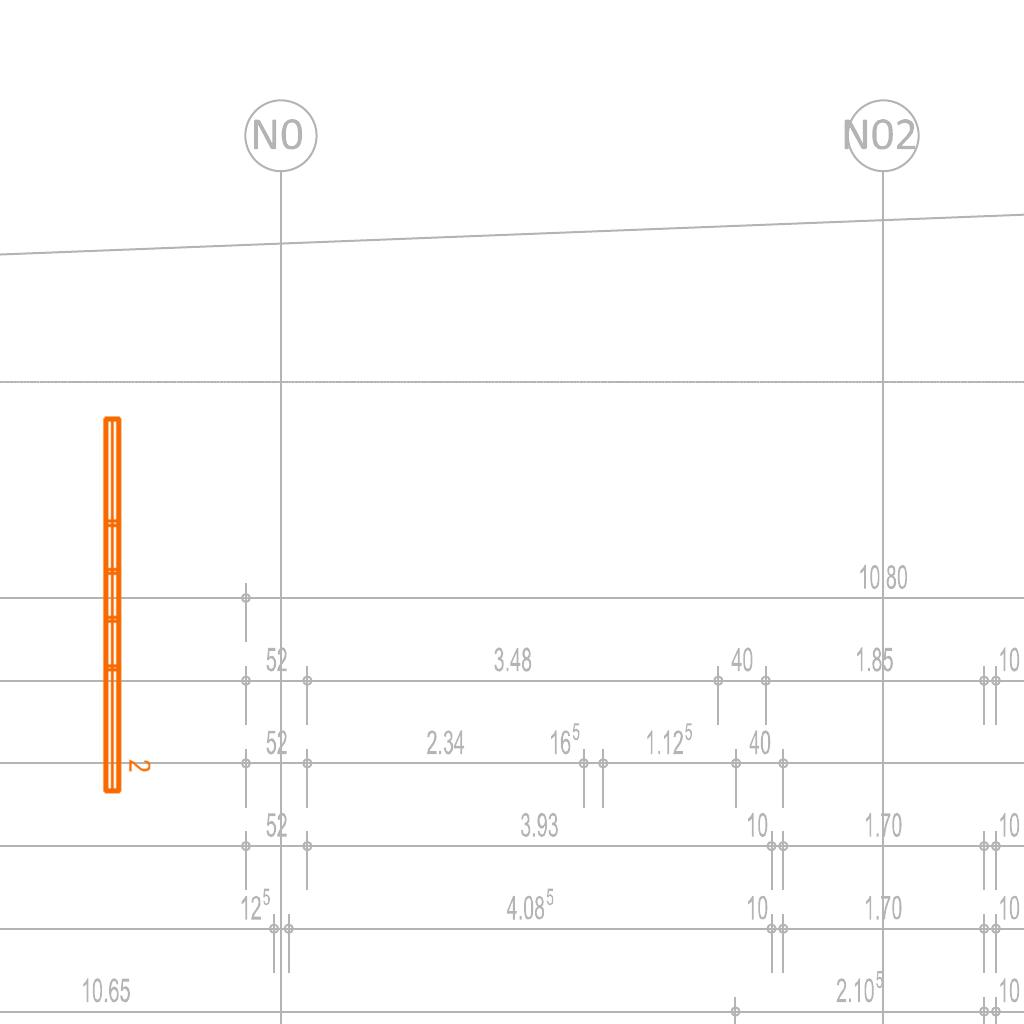Ambulanz_Pendelleuchte_LED: (97, 411, 153, 798)
